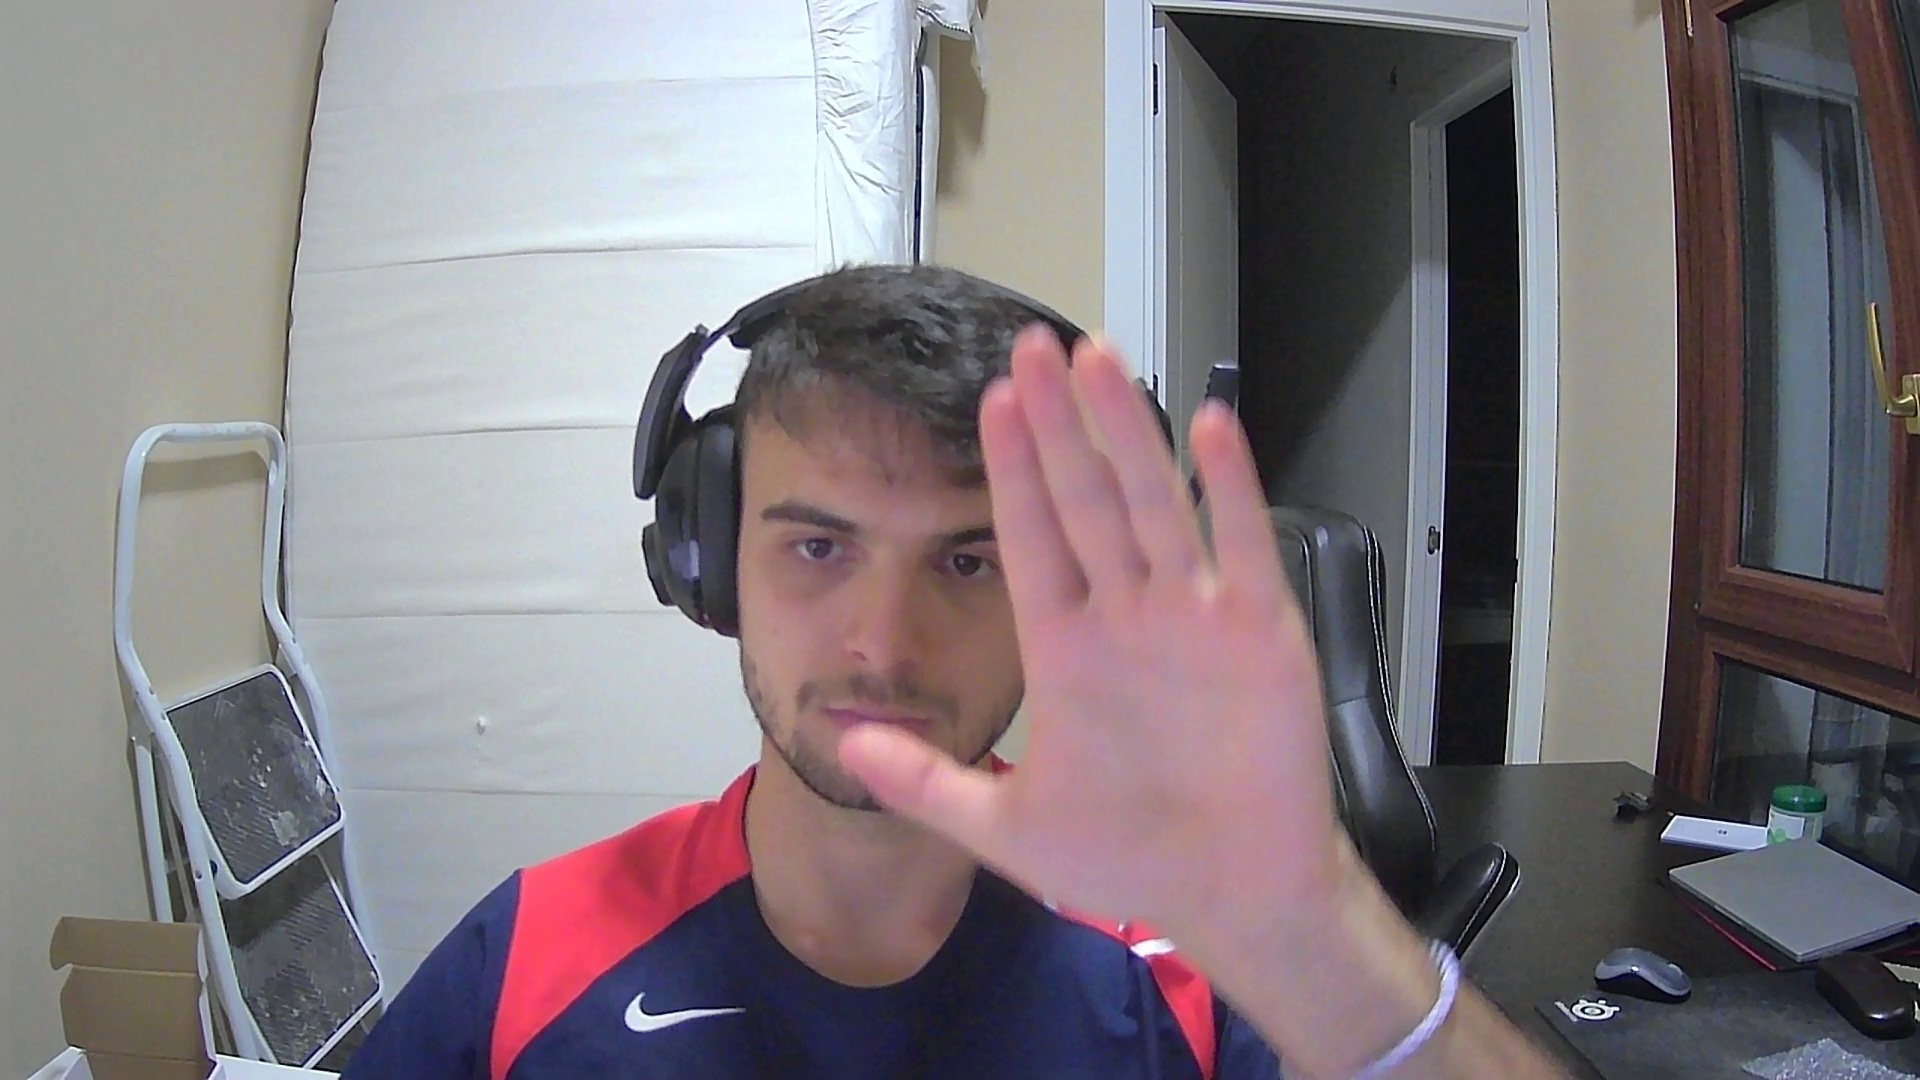Palm: (833, 322, 1335, 957)
